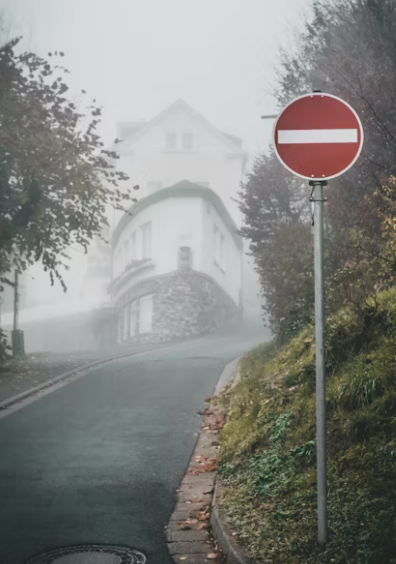No entry: (262, 89, 376, 184)
